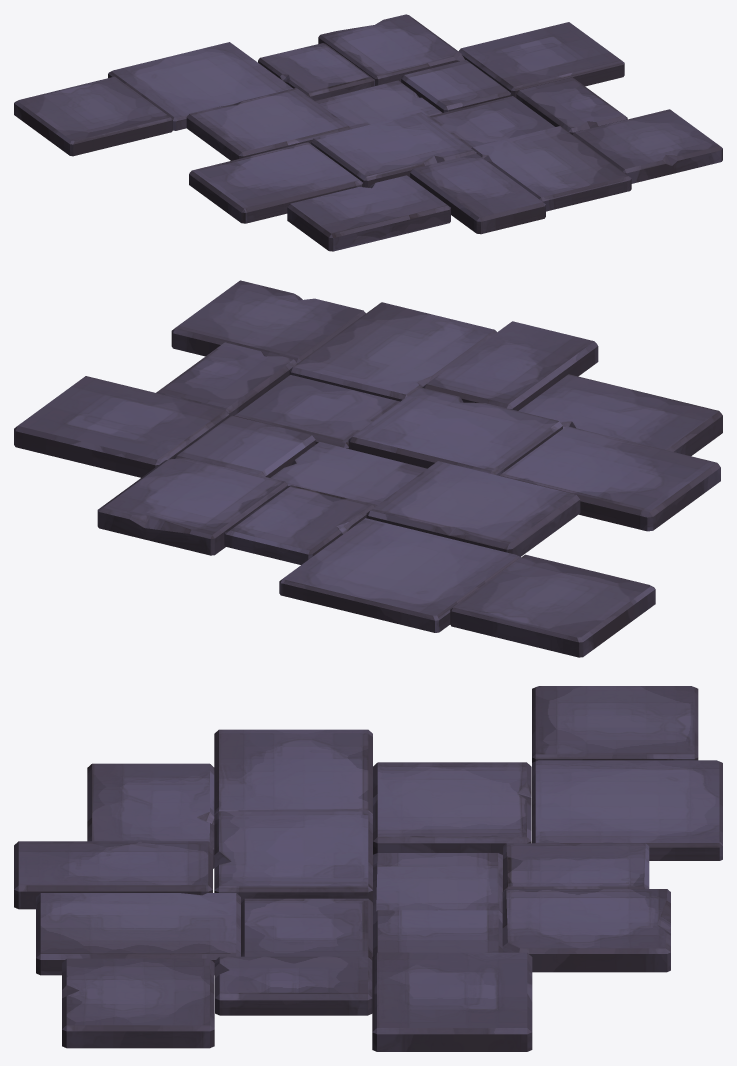
The model's file is Floor_01.fbx.
3 renders of one model, top to bottom at view 1: azimuth 30°, elevation 25°; view 2: azimuth 150°, elevation 25°; view 3: azimuth 270°, elevation 25°, orthographic. The views are drawn at different scales.
Parts seen in each view (by area): view 1: Floor_01; view 2: Floor_01; view 3: Floor_01.
Part boxes in pixels (x1,y1,x2,y2): Floor_01: (14, 14, 722, 251); Floor_01: (14, 280, 722, 657); Floor_01: (14, 686, 722, 1051).
Size of the model in its own units: 268 by 11.47 by 232.
